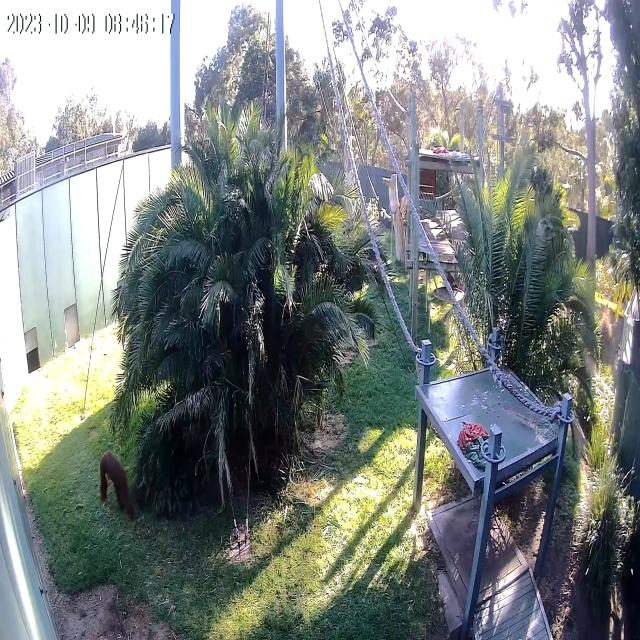orangutan: (100, 452, 132, 518)
